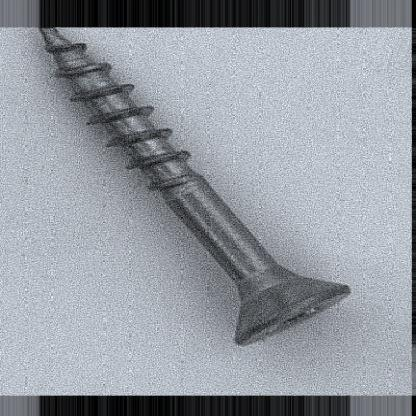metal: (41, 22, 352, 346)
